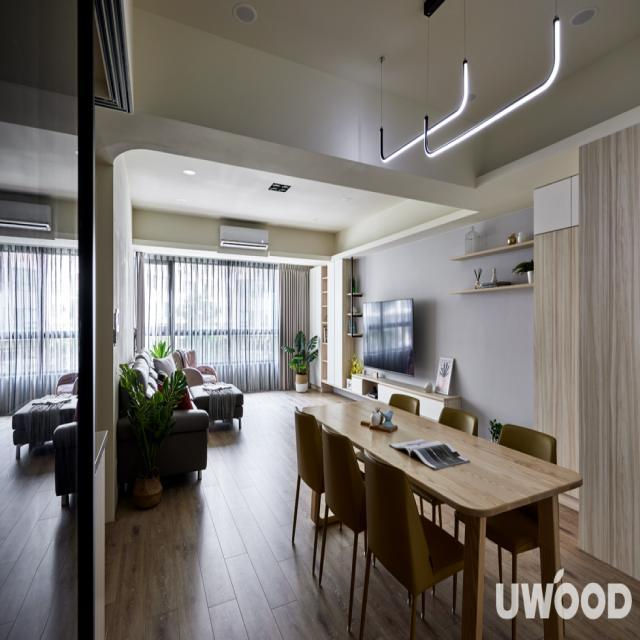table: (288, 385, 573, 640)
